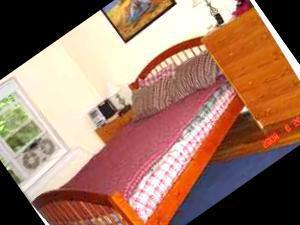Armario: (199, 6, 300, 141)
